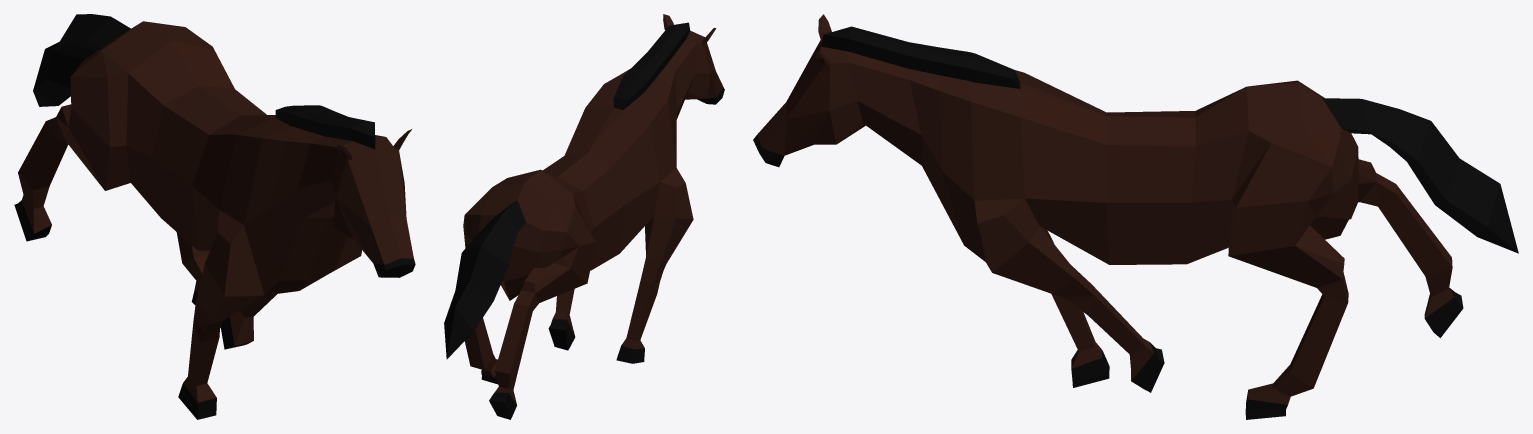
Rendered from Horse_000001.obj.
3 views of the same model, side by side, from view 1: azimuth 30°, elevation 25°; view 2: azimuth 150°, elevation 25°; view 3: azimuth 270°, elevation 25° (orthographic). The views are drawn at different scales.
Parts seen in each view (by area): view 1: Horse_Cylinder; view 2: Horse_Cylinder; view 3: Horse_Cylinder.
Boxes of the visible parts, x1,y1,x2,y2 form: Horse_Cylinder: (14,14,415,419); Horse_Cylinder: (444,14,724,419); Horse_Cylinder: (753,14,1518,419).
Size of the model in its own units: 2.6 by 5.81 by 10.64.
